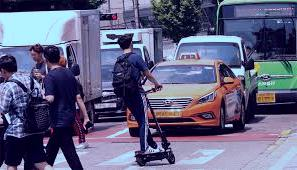nonhelmet: (112, 33, 177, 165)
